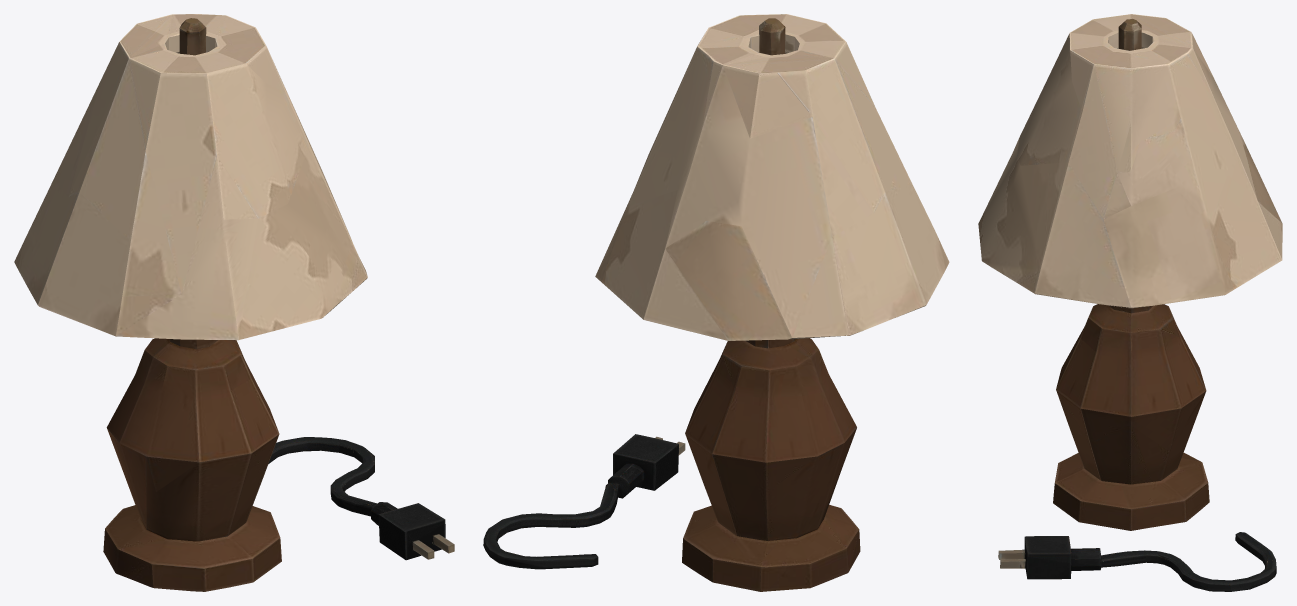
File: lamp.glb
3 renders of one model, left to right at view 1: azimuth 30°, elevation 25°; view 2: azimuth 150°, elevation 25°; view 3: azimuth 270°, elevation 25°, orthographic. The views are drawn at different scales.
Bounding box in the file's own units: 1.43 × 1.9 × 1.1.
1 material, 1 textured.
